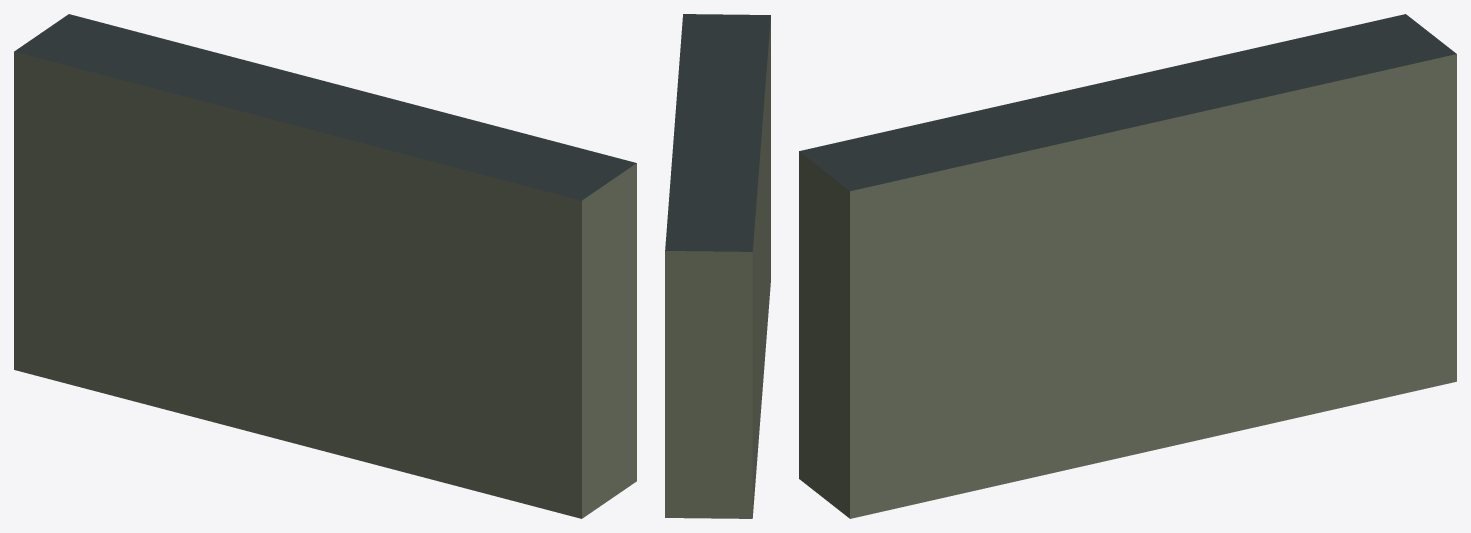
File: nyc-1022646-0.glb
The picture shows the model from 3 angles, left to right: view 1: azimuth 30°, elevation 25°; view 2: azimuth 150°, elevation 25°; view 3: azimuth 270°, elevation 25°; orthographic projection. The views are drawn at different scales.
Parts seen in each view (by area): view 1: nyc-1022646-0; view 2: nyc-1022646-0; view 3: nyc-1022646-0.
Boxes of the visible parts, box(x1,y1,x2,y2) form: nyc-1022646-0: box(14, 14, 636, 518); nyc-1022646-0: box(665, 14, 770, 518); nyc-1022646-0: box(799, 14, 1456, 518).
Size of the model in its own units: 18.39 by 15.85 by 28.84.
